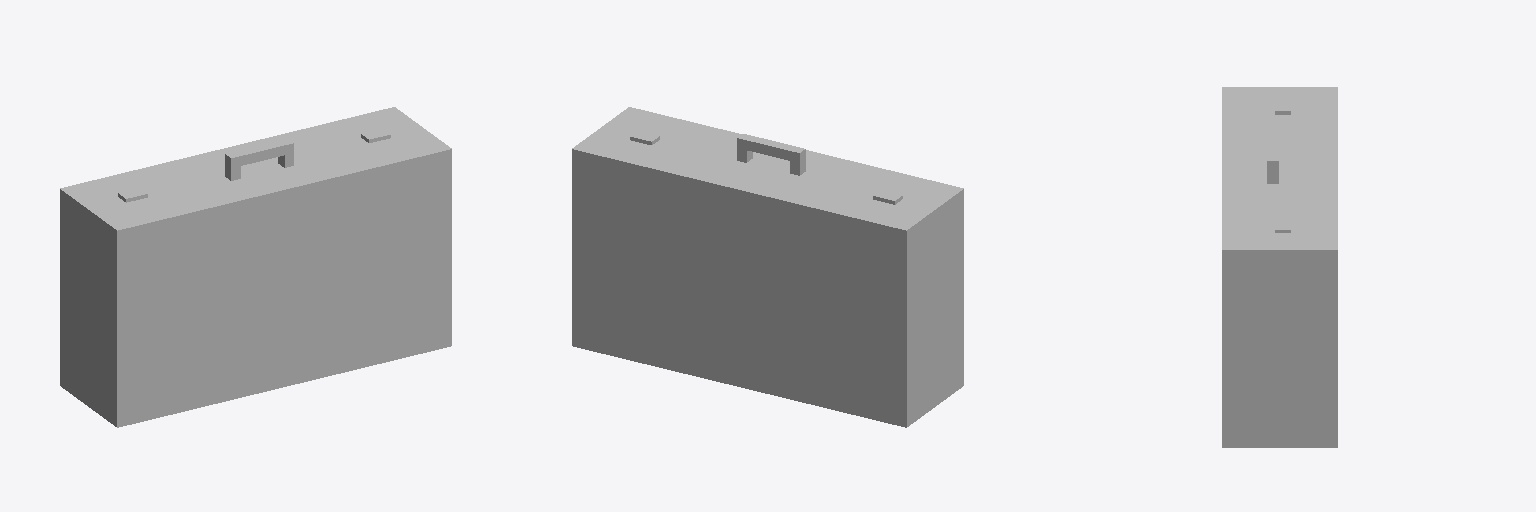
Rendered from Suitcase.obj.
The picture shows the model from 3 angles: view 1: azimuth 30°, elevation 25°; view 2: azimuth 150°, elevation 25°; view 3: azimuth 270°, elevation 25°; orthographic projection.
Parts seen in each view (by area): view 1: Suitcase; view 2: Suitcase; view 3: Suitcase.
Boxes of the visible parts, x1=… form: Suitcase: x1=60, y1=107, x2=451, y2=427; Suitcase: x1=572, y1=107, x2=963, y2=427; Suitcase: x1=1222, y1=87, x2=1337, y2=447.
Bounding box in the file's own units: 2.81 × 1.76 × 0.8376.